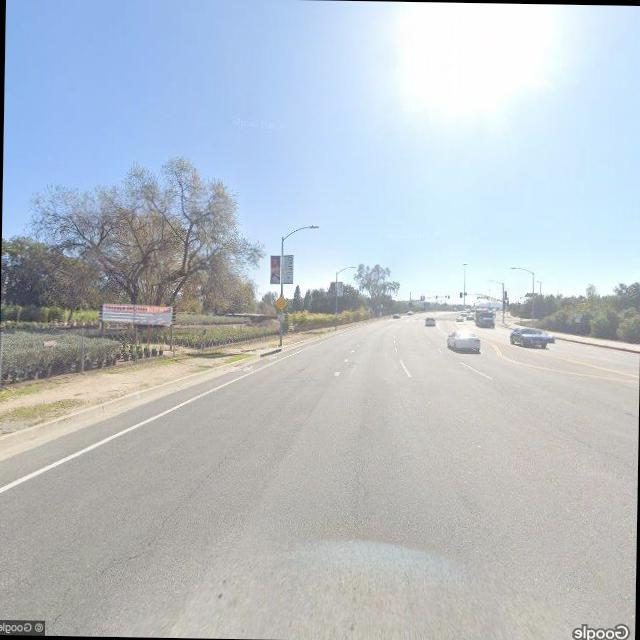pothole: (51, 442, 230, 624)
